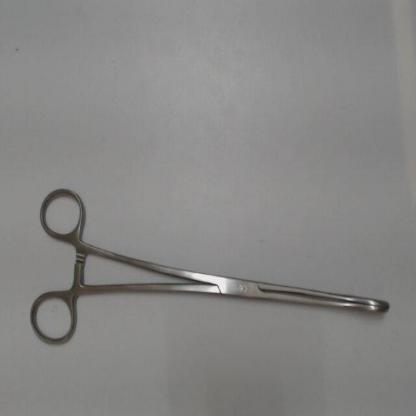Sponge Forceps: (26, 182, 400, 358)
